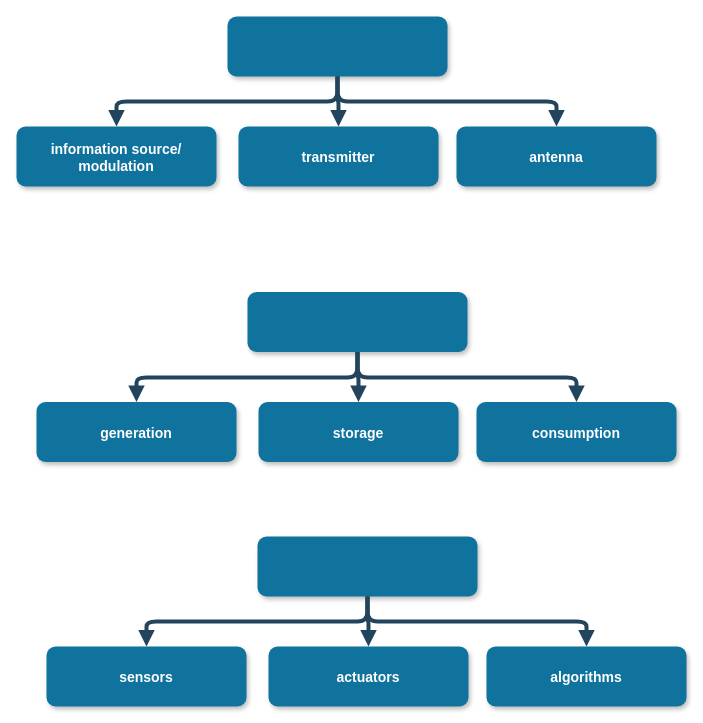
The diagram is 703 pixels wide and 723 high, and some of its shapes have lost their labels. The shapes that lost their labels are listed below. From the top down, each one's centre as x and y in pixels, then its label:
At pixel 338 47: "communication subsystem".
At pixel 358 323: "power subsystem".
At pixel 368 567: "attitude determination and control".
